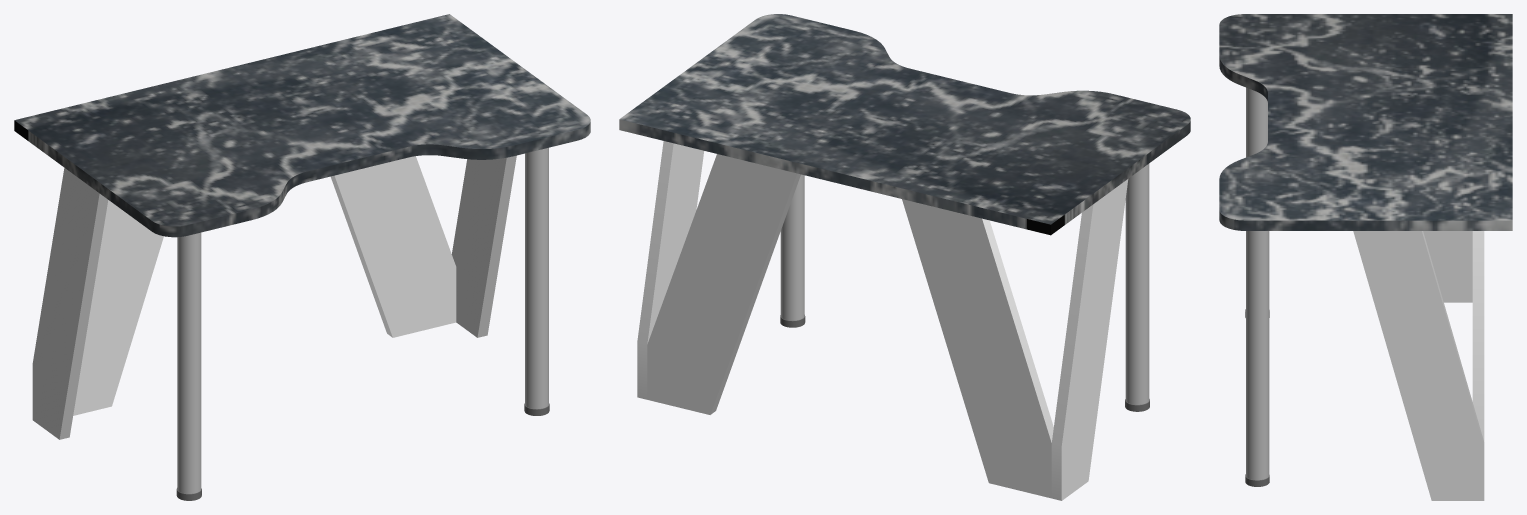
File: TABLEE3.glb
3 renders of one model, left to right at view 1: azimuth 30°, elevation 25°; view 2: azimuth 150°, elevation 25°; view 3: azimuth 270°, elevation 25°, orthographic. The views are drawn at different scales.
Parts seen in each view (by area): view 1: table_top, walls, tube; view 2: table_top, walls, tube; view 3: table_top, walls, tube.
Boxes of the visible parts, box(x1,y1,x2,y2) form: table_top: box(14, 14, 590, 237); walls: box(32, 155, 516, 439); tube: box(176, 147, 549, 500); table_top: box(619, 14, 1190, 235); walls: box(637, 141, 1128, 500); tube: box(780, 163, 1149, 411); table_top: box(1219, 14, 1512, 230); walls: box(1353, 231, 1484, 500); tube: box(1245, 87, 1269, 486).
Bounding box in the file's own units: 15 × 9.55 × 9.
Materials: 4 (1 with a texture image).
